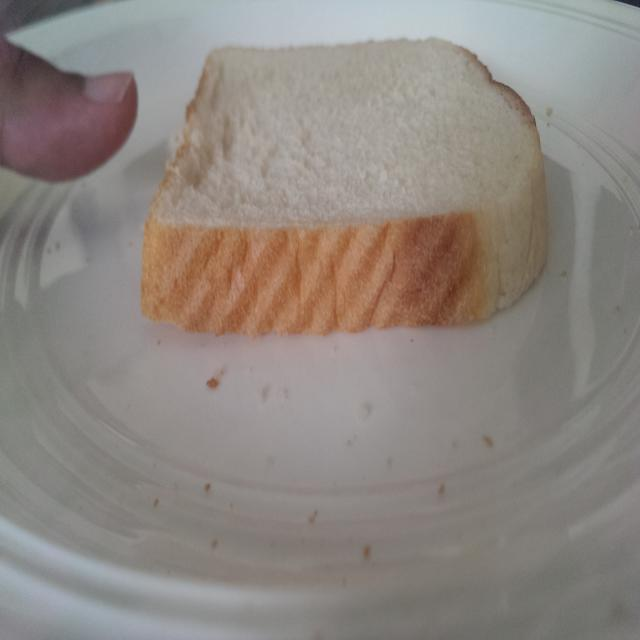Bread: (140, 25, 557, 347)
Finger: (2, 20, 142, 190)
